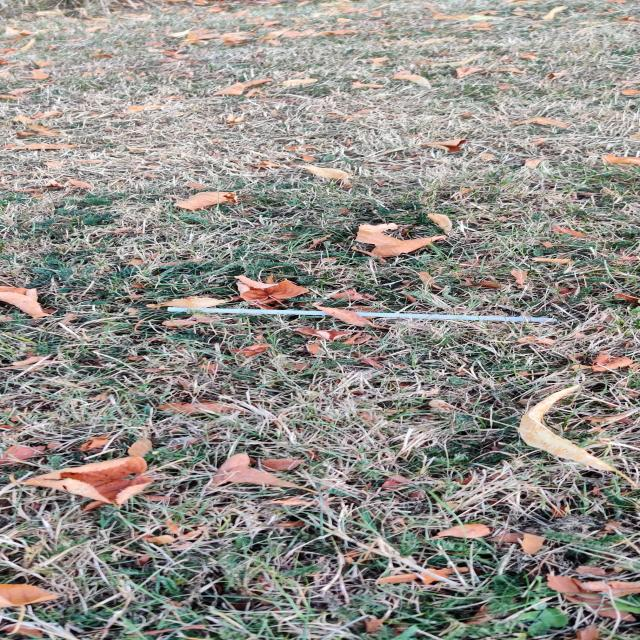litter: (168, 307, 557, 322)
